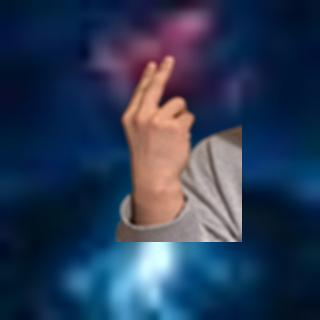DHAVE: (117, 52, 200, 189)
